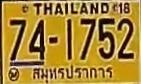1: (66, 19, 71, 60)
2: (116, 18, 132, 58)
4: (28, 19, 44, 59)
5: (98, 17, 114, 58)
7: (9, 19, 25, 60), (80, 18, 95, 59)
SPK: (31, 65, 114, 81)
